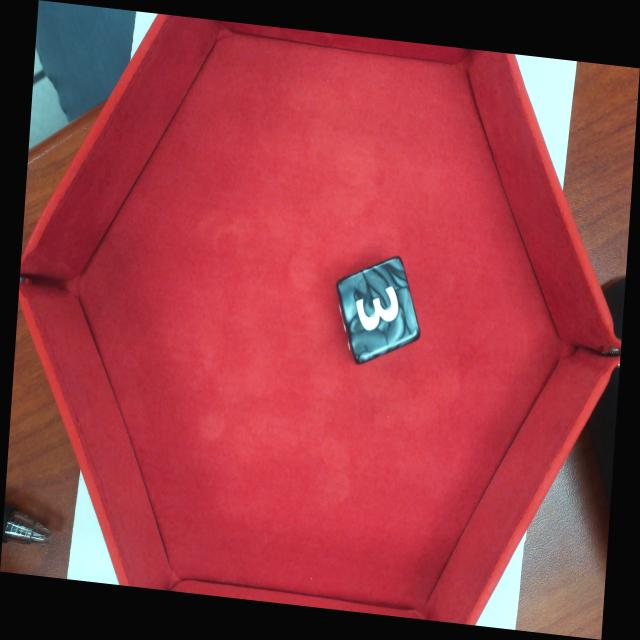dice: (335, 255, 422, 367)
